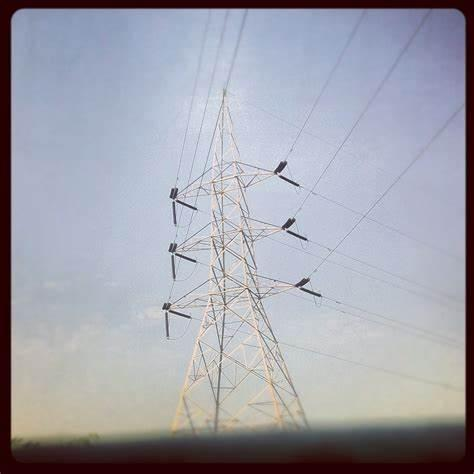power_tower: (158, 87, 327, 444)
